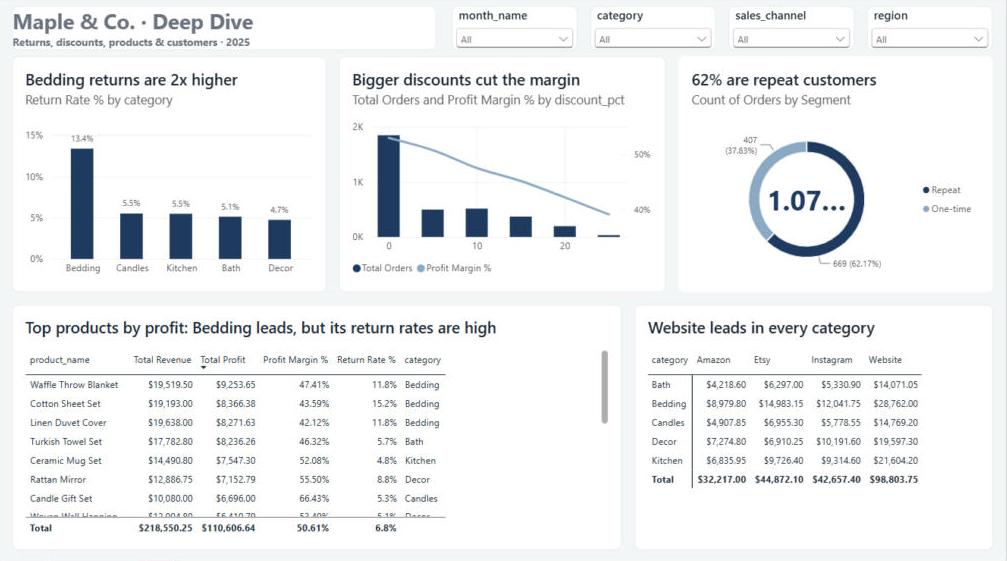

What the dashboard file says about the page in this screenshot:
{"tool":"powerbi","page":{"name":"Deep Dive","canvas":[1280,720],"ordinal":1},"visuals":[{"type":"textbox","box":[16,12,540,56],"z":1000},{"type":"slicer","fields":{"Values":["orders_cleaned.month_name"]},"box":[576,12,160,56],"z":6000},{"type":"slicer","fields":{"Values":["orders_cleaned.category"]},"box":[752,12,160,56],"z":7000},{"type":"slicer","fields":{"Values":["orders_cleaned.region"]},"box":[1104,12,160,56],"z":8000},{"type":"slicer","fields":{"Values":["orders_cleaned.sales_channel"]},"box":[928,12,160,56],"z":9000},{"type":"clusteredColumnChart","title":"Bedding returns are 2x higher","fields":{"Category":["orders_cleaned.category"],"Y":["orders_cleaned.Return Rate %"]},"box":[16,76,400,300],"z":9001},{"type":"lineClusteredColumnComboChart","title":"Bigger discounts cut the margin","fields":{"Category":["orders_cleaned.discount_pct"],"Y":["orders_cleaned.Total Orders"],"Y2":["orders_cleaned.Profit Margin %"]},"box":[432,76,416,300],"z":9002},{"type":"donutChart","title":"62% are repeat customers","fields":{"Category":["Customer Segments.Segment"],"Y":["CountNonNull(Customer Segments.Orders)"]},"box":[864,76,400,300],"z":9003},{"type":"tableEx","title":"Top products by profit: Bedding leads, but its return rates are high","fields":{"Values":["orders_cleaned.product_name","orders_cleaned.Total Revenue","orders_cleaned.Total Profit","orders_cleaned.Profit Margin %","orders_cleaned.Return Rate %","orders_cleaned.category"]},"box":[16,392,776,312],"z":9004},{"type":"pivotTable","title":"Website leads in every category","fields":{"Columns":["orders_cleaned.sales_channel"],"Rows":["orders_cleaned.category"],"Values":["orders_cleaned.Total Revenue"]},"box":[808,392,456,312],"z":9005}]}

Visuals, with their boxes in screenshot pixels (x1, y1, x2, y2), scaled from the page's 1280x720 canvas onto the 1007x561 screenshot:
textbox: box=[13, 9, 437, 53]
slicer - orders_cleaned.month_name: box=[453, 9, 579, 53]
slicer - orders_cleaned.category: box=[592, 9, 717, 53]
slicer - orders_cleaned.region: box=[869, 9, 994, 53]
slicer - orders_cleaned.sales_channel: box=[730, 9, 856, 53]
"Bedding returns are 2x higher" clusteredColumnChart: box=[13, 59, 327, 293]
"Bigger discounts cut the margin" lineClusteredColumnComboChart: box=[340, 59, 667, 293]
"62% are repeat customers" donutChart: box=[680, 59, 994, 293]
"Top products by profit: Bedding leads, but its return rates are high" tableEx: box=[13, 305, 623, 549]
"Website leads in every category" pivotTable: box=[636, 305, 994, 549]
